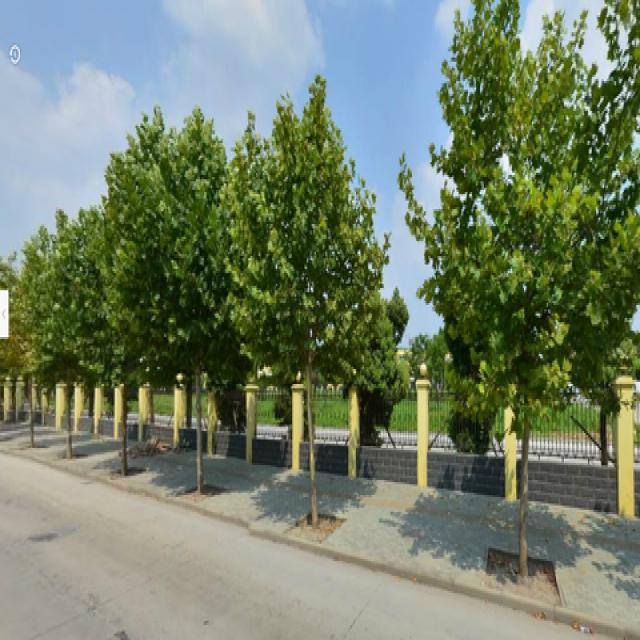meta: (432, 17, 625, 578), (232, 96, 397, 531)
